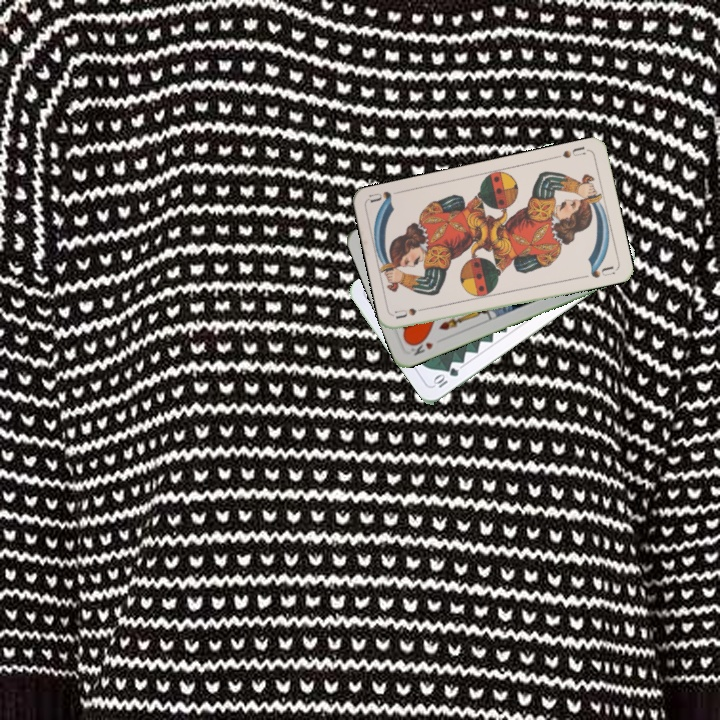G10: (429, 363, 461, 390)
HK: (406, 334, 436, 358)
SU: (392, 303, 432, 321), (559, 142, 588, 161)
